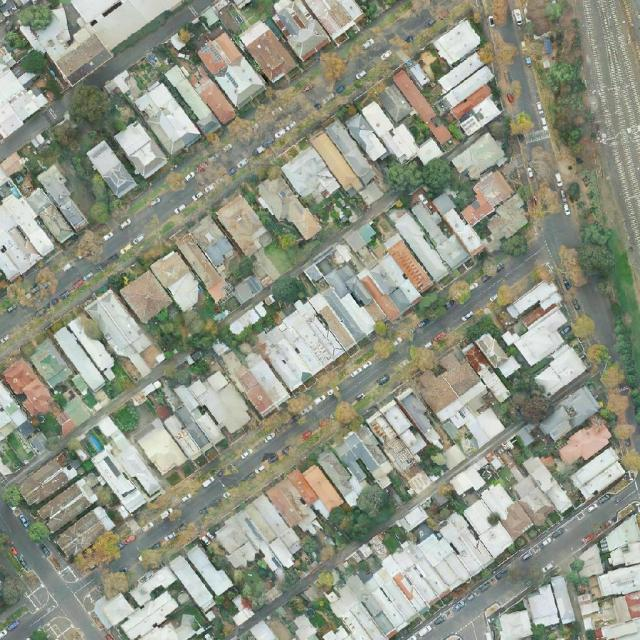building: (17, 0, 184, 92), (411, 347, 514, 458), (208, 492, 311, 597), (425, 16, 503, 139), (490, 276, 588, 372), (75, 412, 165, 515), (478, 454, 574, 545), (253, 300, 346, 392), (383, 189, 471, 284), (349, 232, 438, 323), (314, 421, 403, 511), (349, 98, 446, 179), (82, 288, 166, 381), (172, 213, 256, 306), (209, 327, 292, 419), (213, 193, 294, 287), (450, 167, 537, 254), (264, 457, 349, 542), (300, 276, 381, 356), (165, 53, 239, 135), (195, 28, 268, 110), (0, 184, 60, 283), (251, 170, 324, 249), (131, 80, 203, 159), (52, 314, 123, 394), (272, 0, 364, 61), (461, 327, 532, 404), (361, 399, 432, 474), (389, 67, 455, 147), (168, 539, 237, 614), (187, 365, 256, 439), (405, 198, 472, 273), (302, 247, 380, 311), (1, 356, 64, 428), (161, 64, 222, 138), (278, 143, 342, 210), (161, 396, 225, 462), (35, 163, 94, 233), (148, 248, 209, 315), (535, 384, 602, 445), (238, 18, 298, 85), (308, 130, 365, 198), (15, 452, 79, 510), (324, 119, 379, 186), (568, 445, 630, 503), (112, 119, 169, 182), (54, 504, 117, 561), (554, 415, 615, 472), (132, 417, 188, 478), (529, 342, 588, 398), (84, 139, 138, 200), (522, 453, 575, 515), (450, 130, 508, 185), (36, 482, 95, 535), (120, 270, 175, 326), (24, 186, 75, 246), (448, 450, 508, 501), (400, 391, 449, 453), (331, 127, 379, 185), (344, 111, 391, 165), (26, 339, 75, 390), (440, 205, 487, 258), (129, 564, 178, 608), (1, 381, 34, 441), (49, 394, 93, 436), (103, 69, 145, 110), (375, 82, 415, 125), (227, 300, 270, 339), (477, 521, 515, 559), (462, 498, 499, 536), (344, 223, 379, 256), (0, 152, 25, 197), (222, 595, 255, 628), (574, 543, 604, 579), (396, 504, 430, 535), (232, 274, 265, 304), (80, 385, 111, 414), (173, 381, 201, 413), (292, 296, 319, 323), (328, 241, 354, 268), (406, 62, 431, 89), (363, 299, 388, 326), (291, 615, 318, 640), (516, 422, 541, 447), (577, 592, 601, 617), (69, 372, 91, 398), (206, 369, 229, 393), (355, 245, 378, 268), (345, 253, 366, 274), (58, 415, 72, 435)
greenland: (526, 0, 605, 162), (39, 115, 122, 234), (584, 338, 640, 444), (324, 475, 401, 551), (575, 221, 620, 296), (71, 527, 130, 582), (1, 22, 52, 83), (413, 276, 476, 324), (502, 351, 559, 403), (384, 156, 455, 195), (156, 306, 216, 351), (508, 380, 556, 429), (0, 532, 25, 608), (163, 355, 213, 393), (261, 211, 303, 254), (69, 84, 111, 126), (312, 185, 356, 224), (555, 241, 589, 290), (508, 437, 560, 465), (238, 561, 276, 599), (256, 404, 295, 439), (18, 141, 60, 169), (271, 275, 308, 306), (529, 145, 558, 184), (111, 403, 144, 436), (403, 112, 434, 146), (499, 231, 531, 263), (568, 312, 600, 344), (536, 180, 562, 215), (357, 0, 400, 20), (19, 5, 52, 31), (227, 255, 254, 286), (211, 592, 237, 623), (102, 571, 130, 599), (39, 74, 68, 101), (285, 392, 315, 417), (374, 321, 394, 358), (485, 0, 508, 26), (509, 112, 534, 135), (497, 42, 519, 65), (621, 450, 640, 472), (506, 92, 514, 102), (35, 79, 40, 88)
metalled_road: (83, 3, 196, 94), (164, 443, 267, 535), (416, 564, 533, 640), (525, 496, 619, 588), (478, 243, 548, 312), (572, 277, 629, 352), (425, 288, 496, 346), (230, 424, 304, 478), (334, 353, 397, 406), (503, 51, 542, 129), (537, 206, 583, 259), (296, 396, 344, 438), (135, 519, 198, 549), (104, 541, 144, 573), (507, 554, 546, 586), (488, 17, 526, 45), (48, 90, 80, 121), (610, 484, 640, 510), (190, 0, 214, 14), (594, 524, 607, 534)
